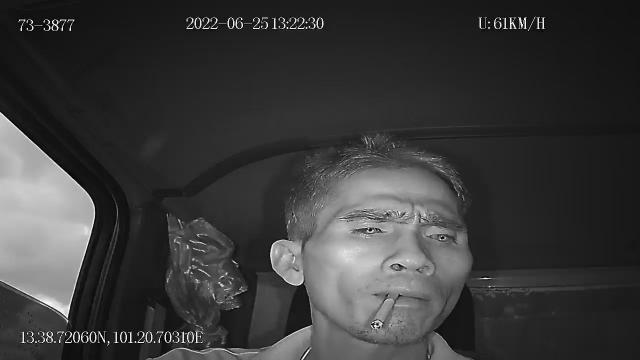SafeDriving: (344, 216, 393, 242), (418, 224, 462, 248)
Smoking: (370, 291, 398, 331)
